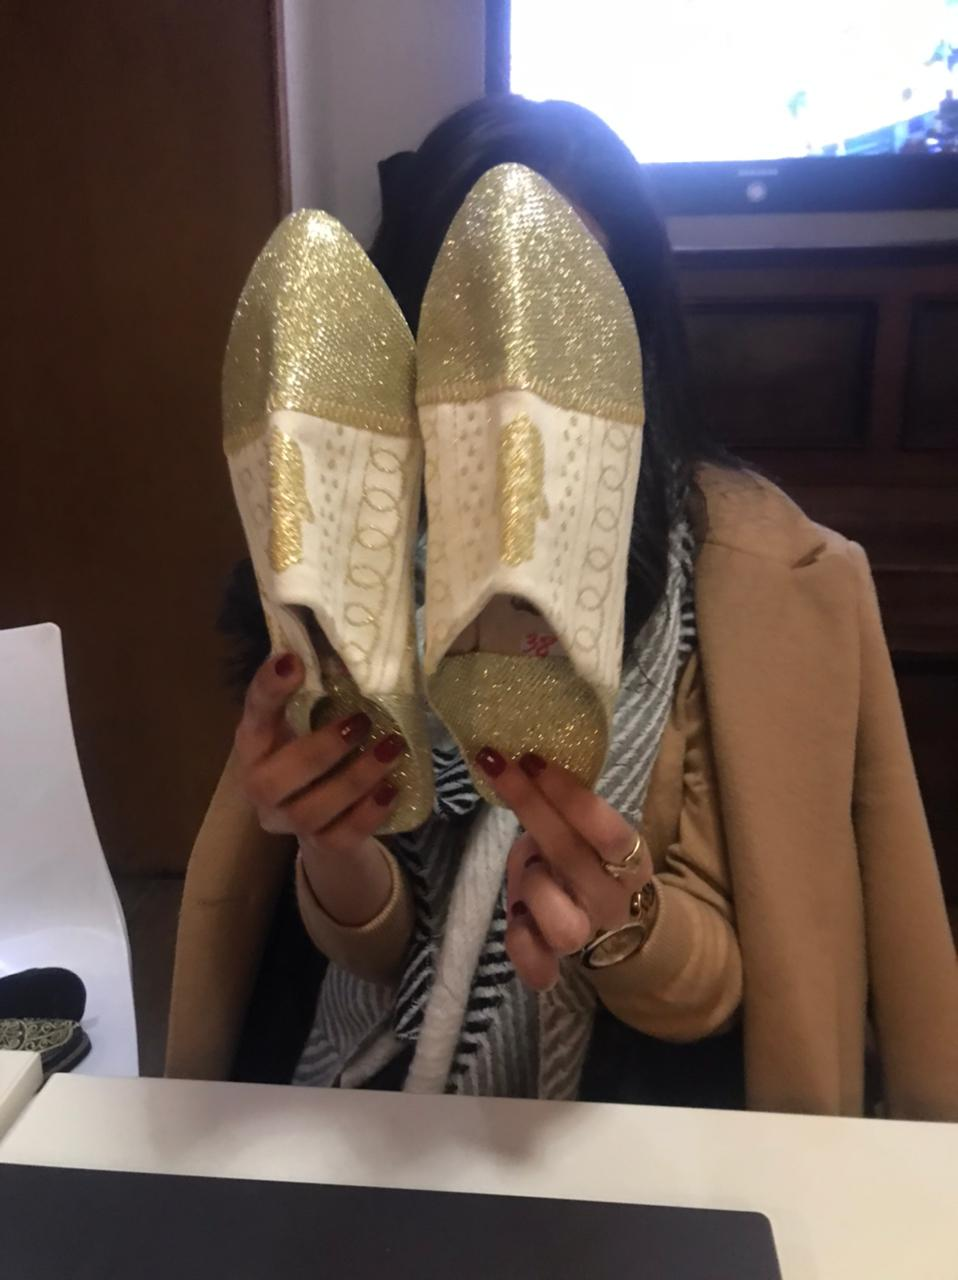balgha: (209, 198, 644, 825), (193, 164, 443, 833), (411, 156, 629, 814)
